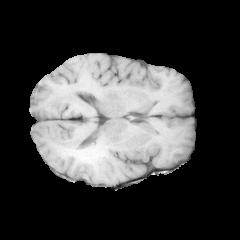glioma: (68, 125, 156, 182)
